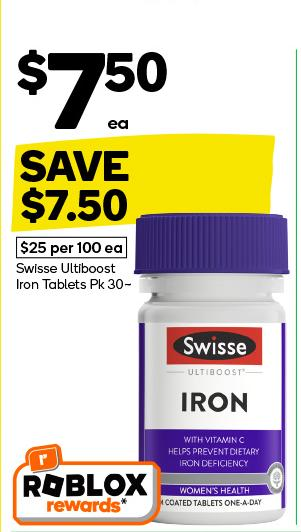description_block: (10, 261, 135, 297)
price_main: (9, 33, 184, 136)
product_image_block: (130, 201, 297, 526)
promo_text_block: (3, 137, 273, 225)
unit_price_block: (11, 235, 131, 259)
